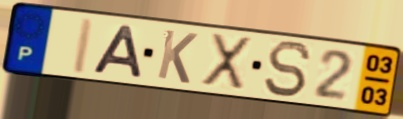2: (311, 48, 358, 103)
A: (88, 23, 146, 80)
I: (69, 15, 98, 77)
K: (155, 27, 200, 86)
S: (262, 39, 314, 100)
X: (199, 31, 254, 94)
